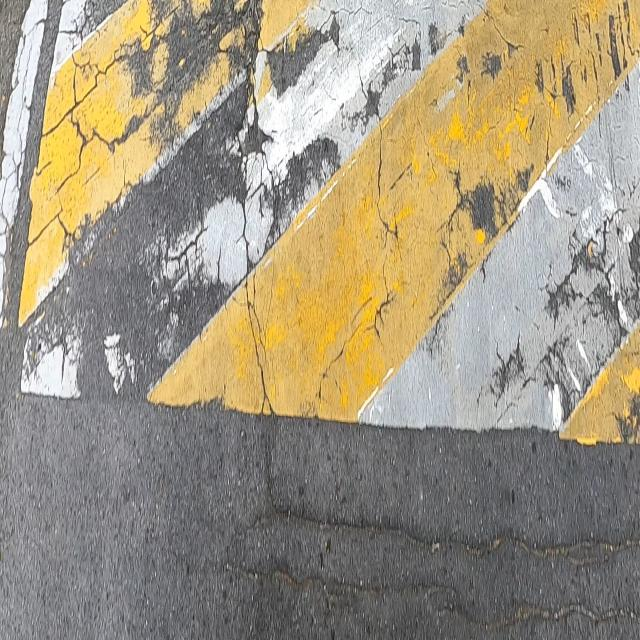Retak-Melintang: (229, 506, 640, 573), (212, 560, 468, 602), (429, 598, 640, 628)
Retak-Memanjang: (232, 15, 277, 426)
